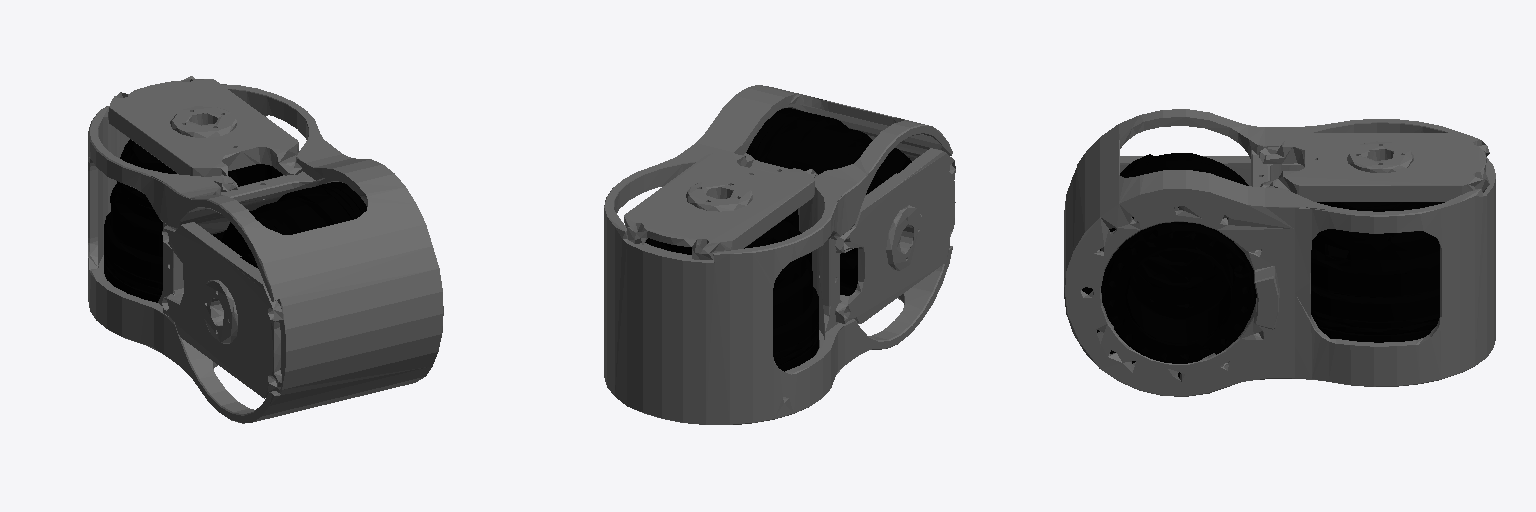
Rendered from waist_pitch_link.obj.
3 views of the same model, side by side, from view 1: azimuth 30°, elevation 25°; view 2: azimuth 150°, elevation 25°; view 3: azimuth 270°, elevation 25° (orthographic).
Visible parts, largest first — view 1: waist_pitch_link; view 2: waist_pitch_link; view 3: waist_pitch_link.
Boxes of the visible parts, box(x1,y1,x2,y2) form: waist_pitch_link: box(88, 76, 443, 423); waist_pitch_link: box(604, 85, 955, 424); waist_pitch_link: box(1064, 109, 1495, 396).
Bounding box in the file's own units: 0.0945 × 0.0945 × 0.1738.